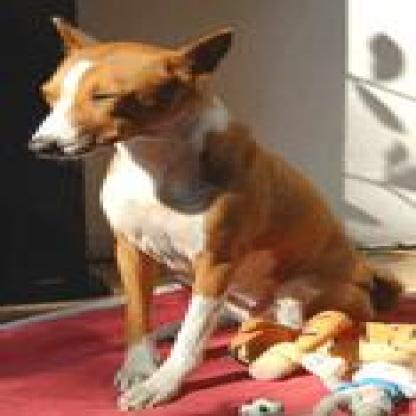basenji: (18, 11, 409, 409)
